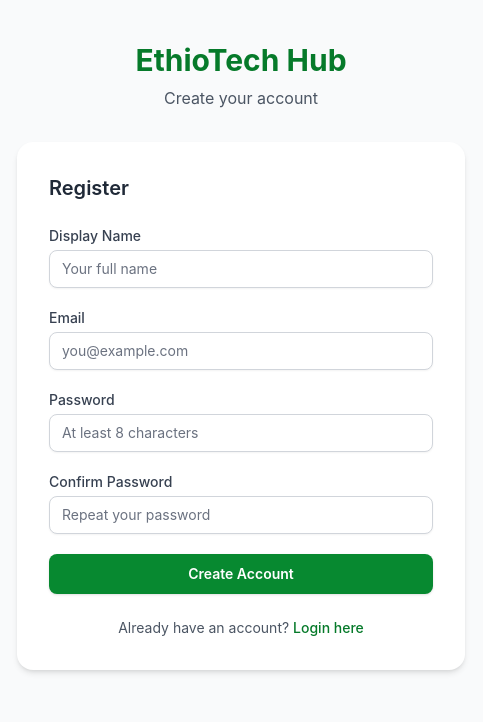
RegisterPage › shows API error message on failed registration
Type "Test User" into the field labelled "Display Name".
click(241, 269); type("Test User")  # box [49,250,433,288]
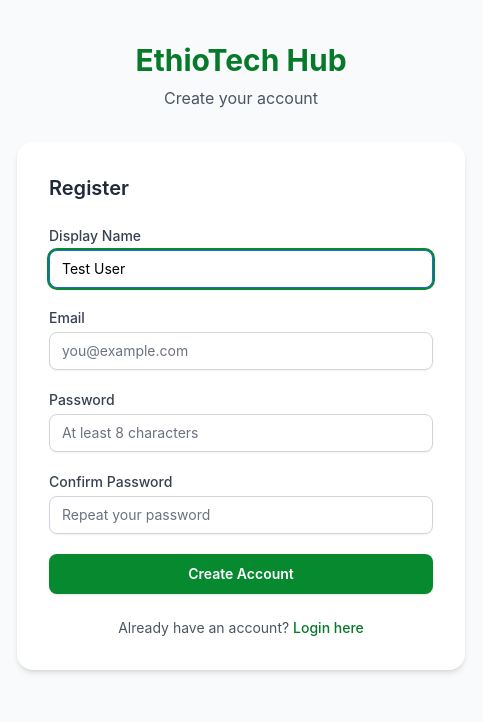
Type "existing@example.com" into the field labelled "Email".
click(241, 351); type("existing@example.com")  # box [49,332,433,370]
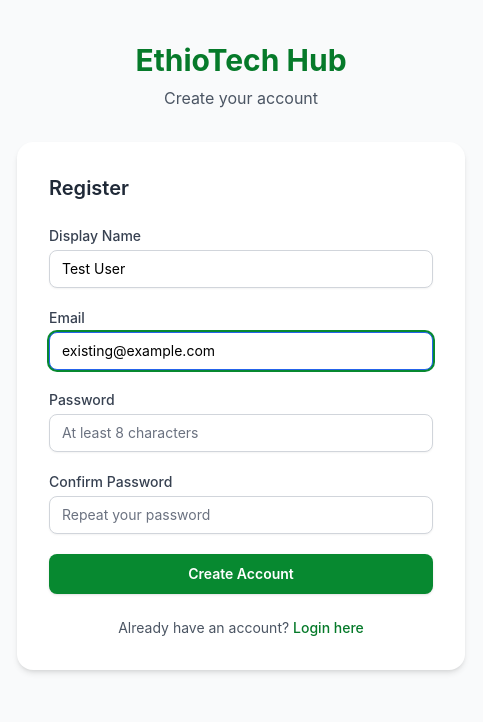
Type "password123" into the password field labelled "Password".
click(241, 433); type("password123")  # box [49,414,433,452]
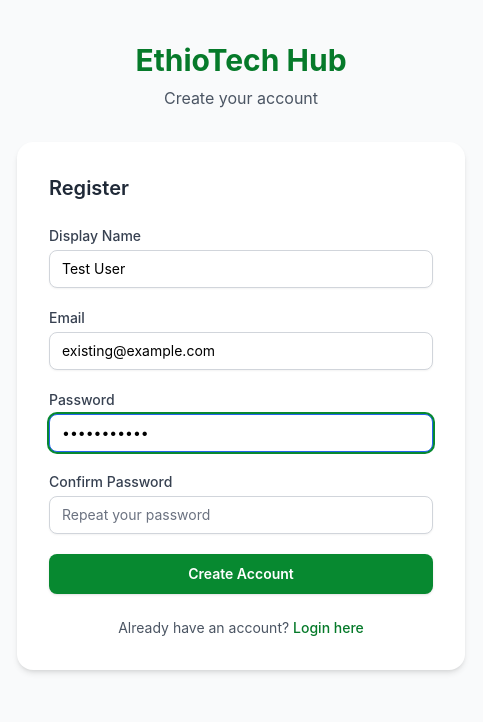
Type "password123" into the password field labelled "Confirm Password".
click(241, 515); type("password123")  # box [49,496,433,534]
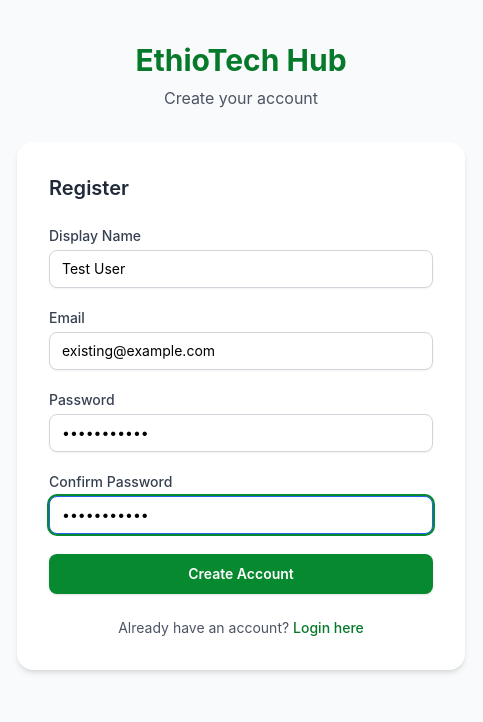
Click the button "Create Account".
click(241, 574)  # box [49,554,433,594]
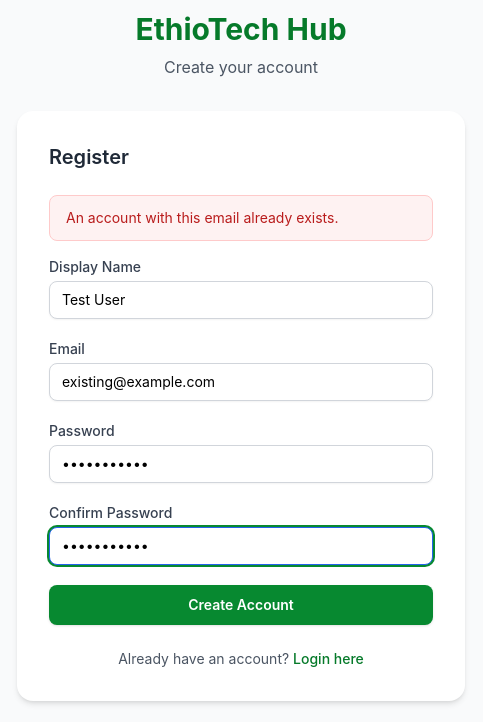
Now the text "An account with this email already exists." is shown, box [49,195,433,241]
